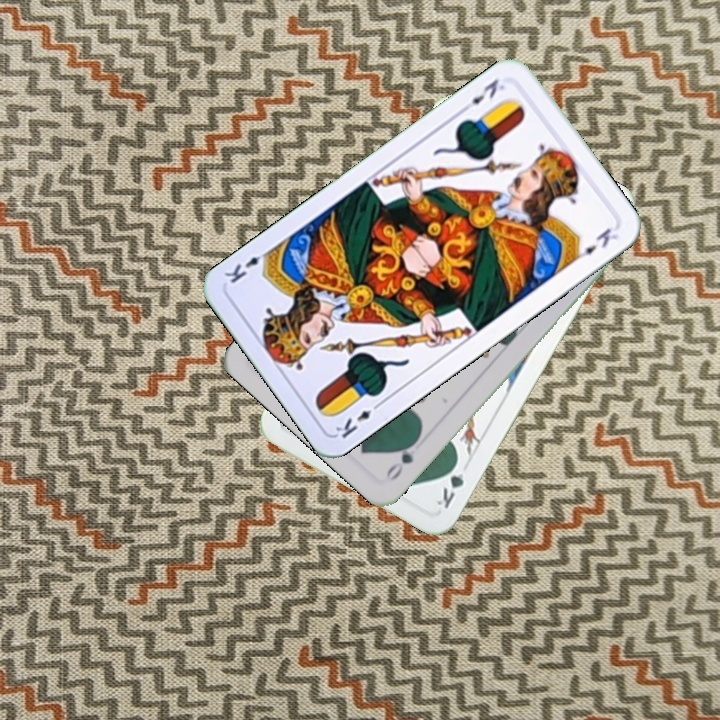EK: (331, 397, 385, 442), (457, 74, 507, 115)
GK: (432, 455, 468, 512)
GO: (381, 433, 422, 484)
